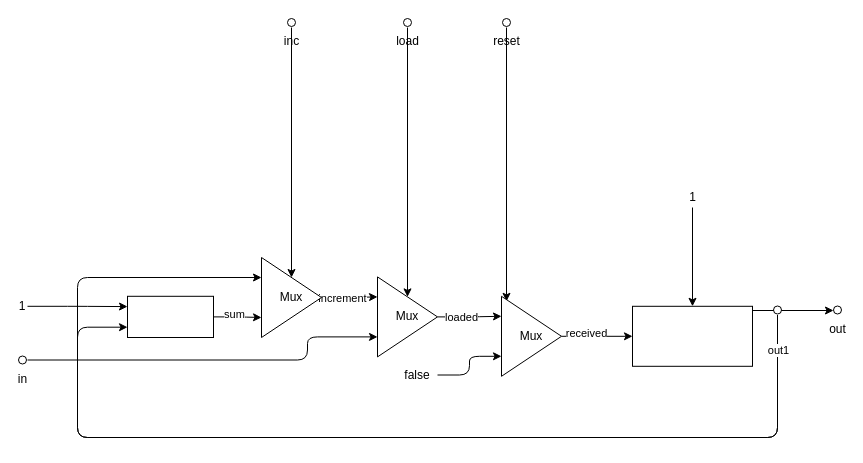
Some shapes in this 863 by 463 pixel diagram are drawn without their labels. Each missing label, with the centre of its shape:
"Add" belongs at (170,316).
"Register" belongs at (692,335).
